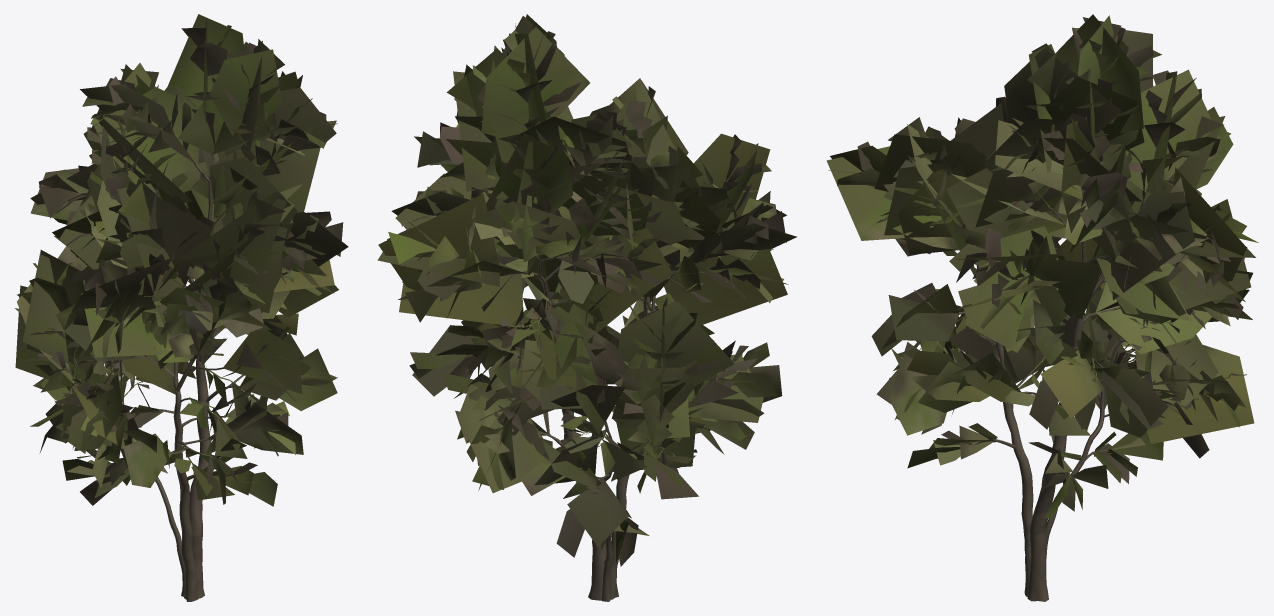
File: SM_BlackAlder_Forest_05_PP_LOD4.gltf
3 renders of one model, left to right at view 1: azimuth 30°, elevation 25°; view 2: azimuth 150°, elevation 25°; view 3: azimuth 270°, elevation 25°, orthographic. The views are drawn at different scales.
Parts seen in each view (by area): view 1: SM_BlackAlder_Forest_05_PP; view 2: SM_BlackAlder_Forest_05_PP; view 3: SM_BlackAlder_Forest_05_PP.
Part boxes in pixels (bbox=[...]): SM_BlackAlder_Forest_05_PP: bbox=[14, 14, 348, 601]; SM_BlackAlder_Forest_05_PP: bbox=[377, 14, 796, 601]; SM_BlackAlder_Forest_05_PP: bbox=[826, 14, 1258, 601].
Bounding box in the file's own units: 6.33 × 11.22 × 7.3.
Materials: 2 (2 with a texture image).
